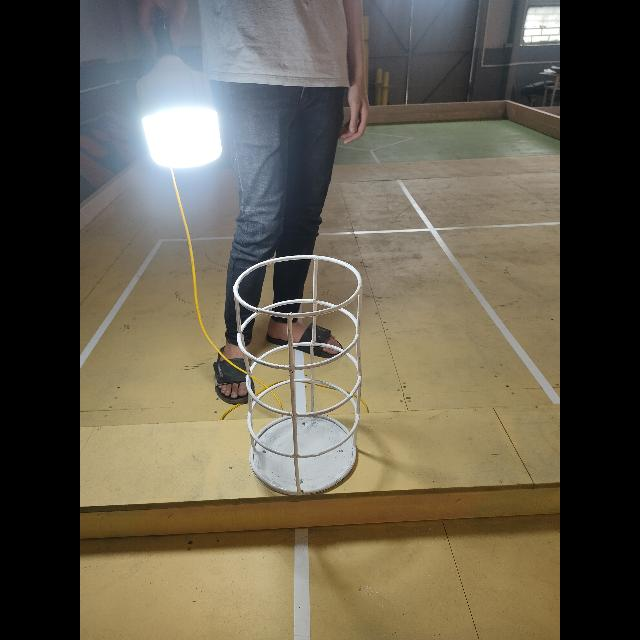S: (230, 246, 363, 501)
